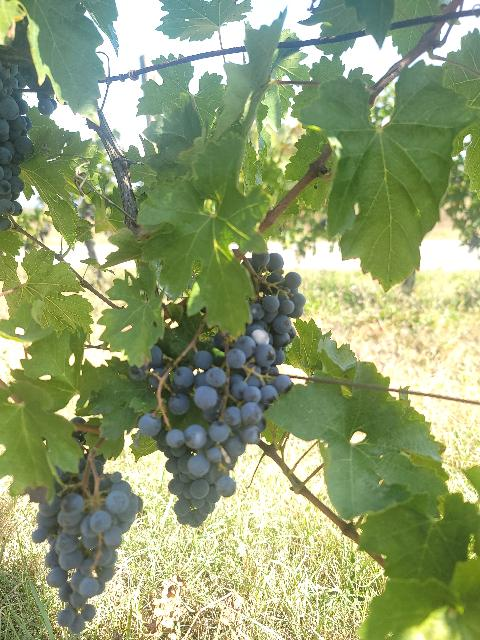grapes: (32, 472, 142, 634), (169, 325, 292, 458), (155, 425, 236, 528), (248, 252, 305, 365), (0, 62, 36, 230)
